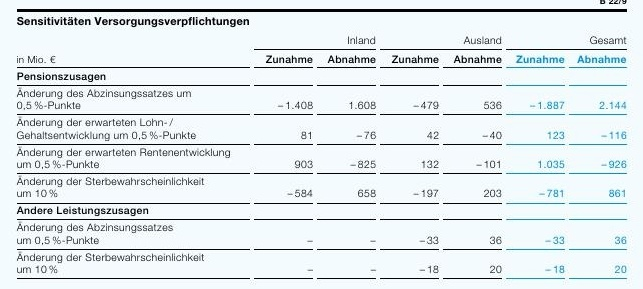table: (0, 0, 643, 289)
